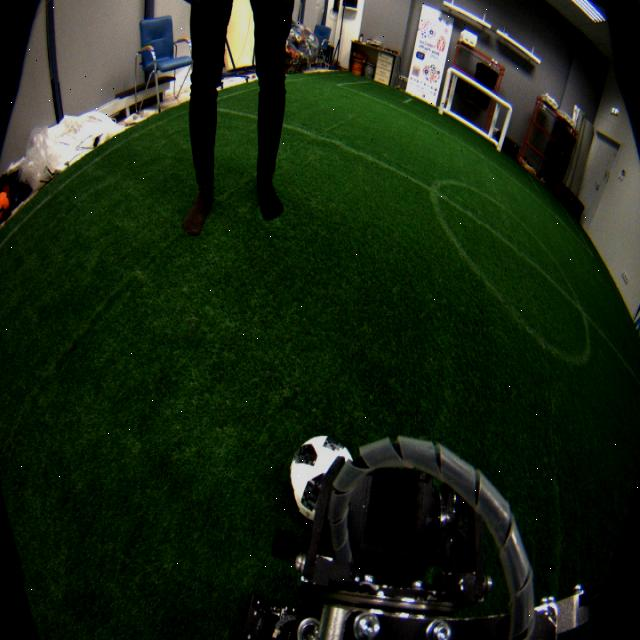ball: (288, 434, 360, 526)
goalpost: (496, 103, 515, 151), (438, 66, 453, 115)
